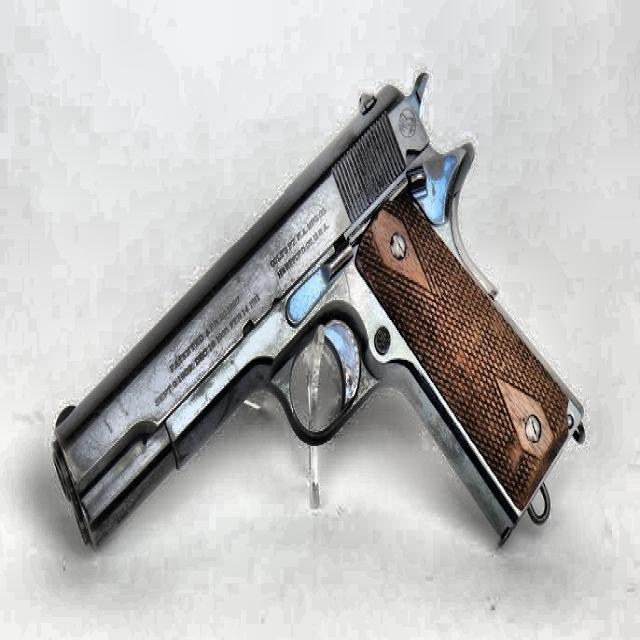Colt m1911: (51, 70, 586, 554)
